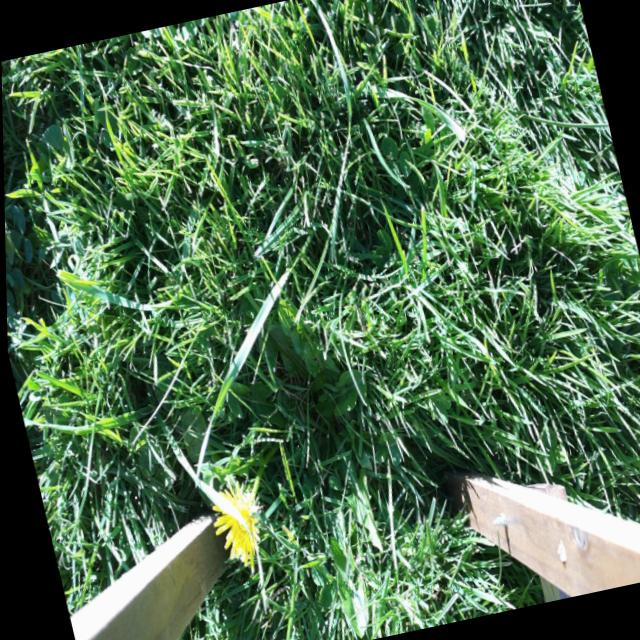base: (263, 432, 284, 464)
